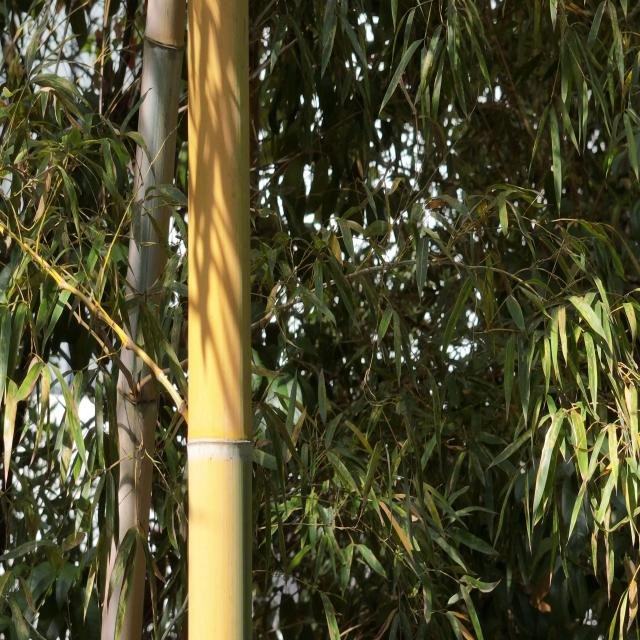Bamboo-shoots: (187, 0, 252, 640)
